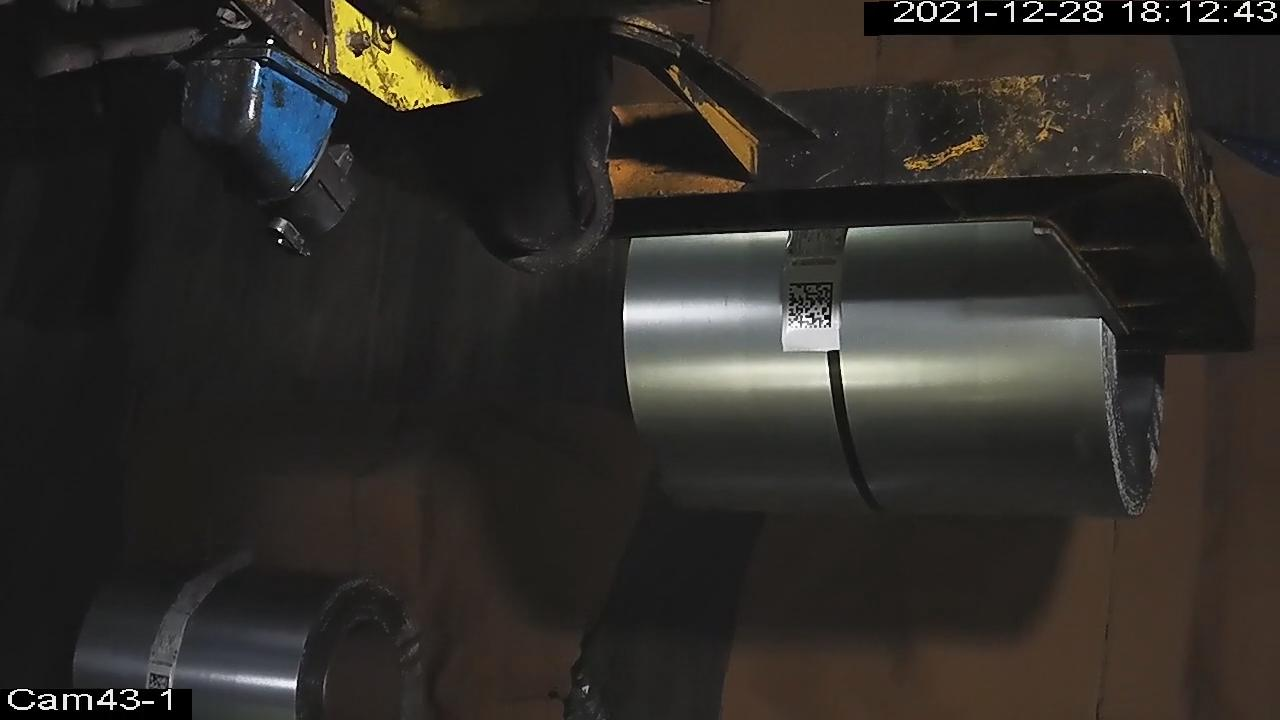data matrix: (785, 280, 836, 333)
